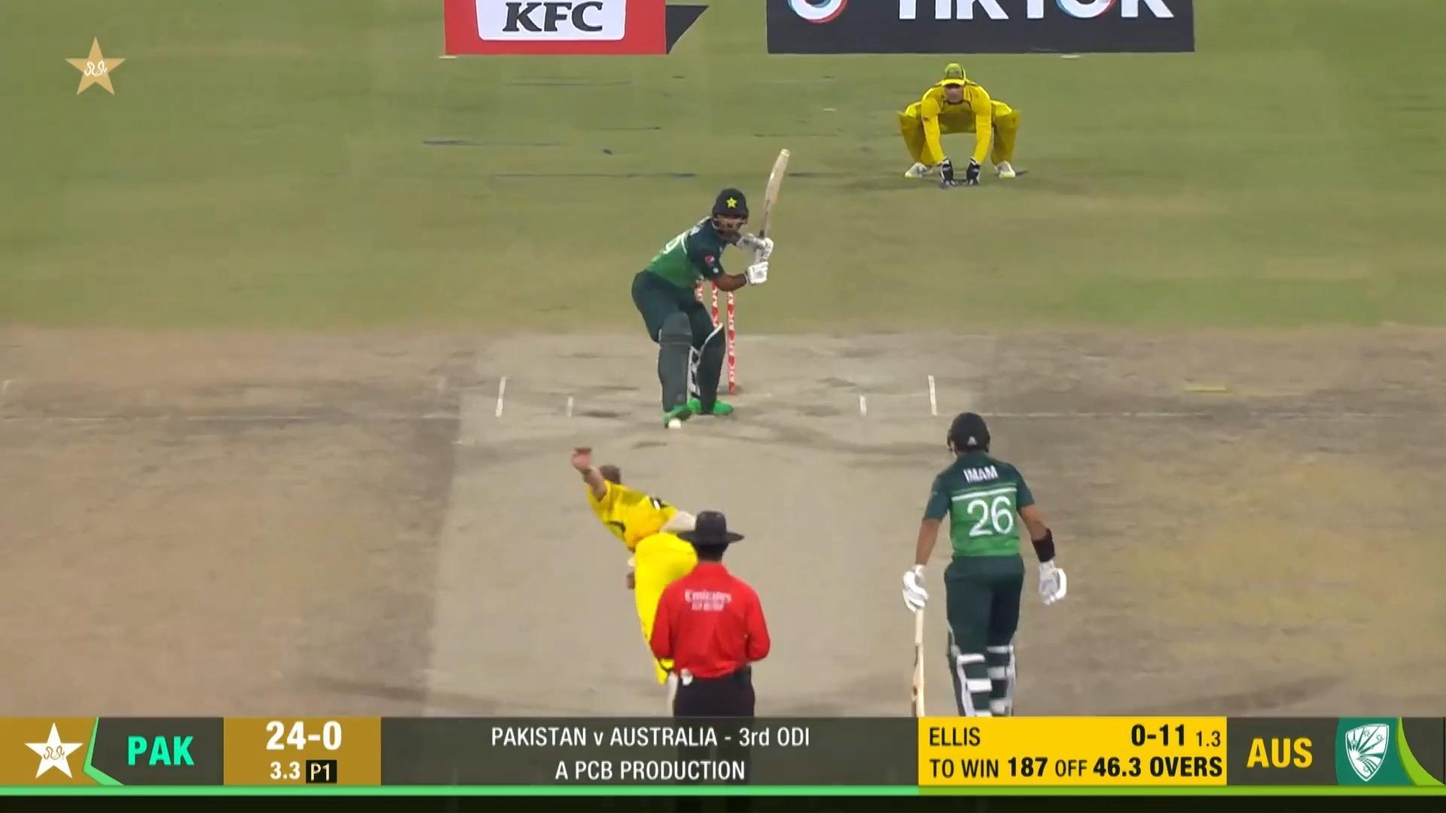BM 1: (631, 146, 792, 430)
BO: (569, 442, 698, 713)
